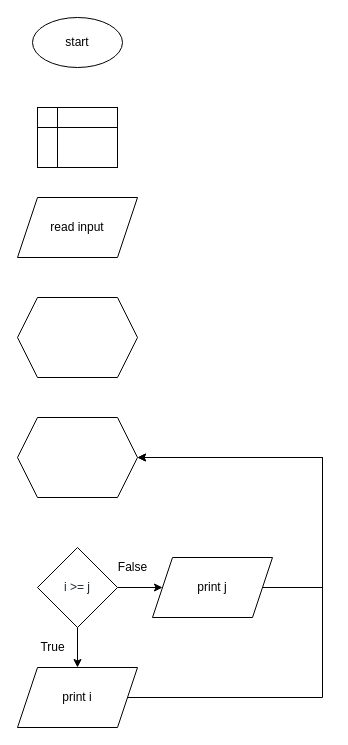
Some shapes in this 348 by 745 pixel diagram are drawn without their labels. The centre of each missing label's shape, as x and y in pixels:
for i : input : 0: the point at 77,337
for j : input : 0: the point at 77,457
input: the point at 77,137
